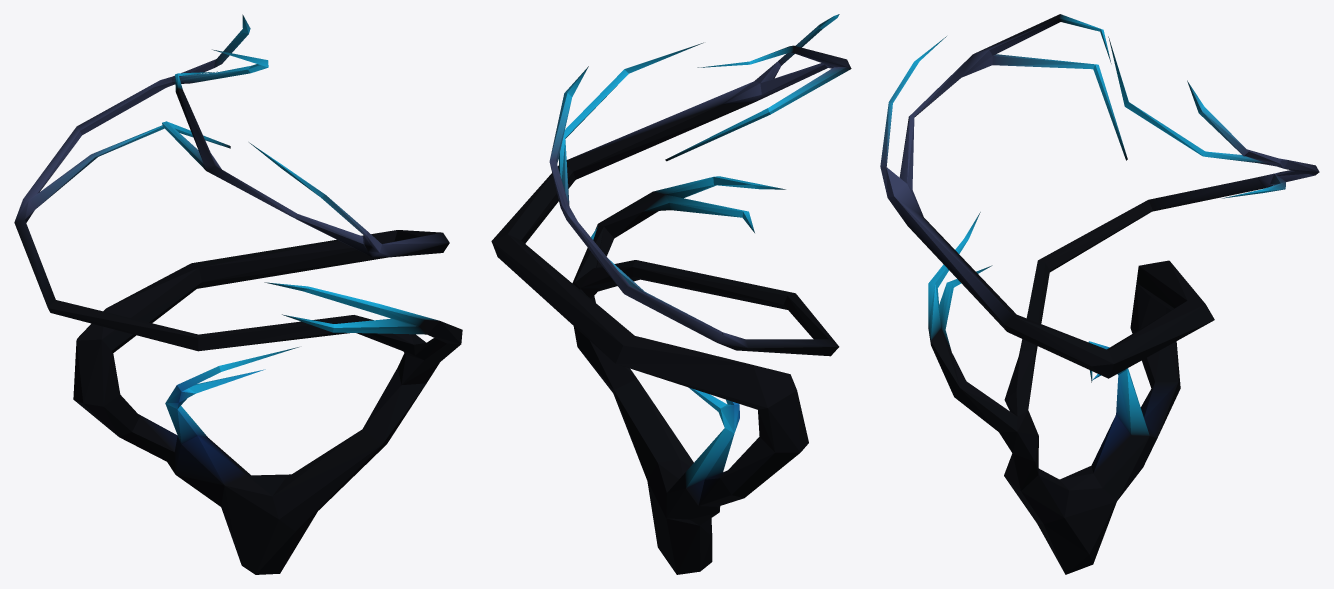
The model's file is Myst_Tree1.fbx.
The picture shows the model from 3 angles, left to right: view 1: azimuth 30°, elevation 25°; view 2: azimuth 150°, elevation 25°; view 3: azimuth 270°, elevation 25°; orthographic projection. The views are drawn at different scales.
Parts seen in each view (by area): view 1: Vert.017; view 2: Vert.017; view 3: Vert.017.
Boxes of the visible parts, box(x1,y1,x2,y2) form: Vert.017: box(14, 14, 462, 574); Vert.017: box(491, 14, 851, 574); Vert.017: box(880, 14, 1319, 574).
Size of the model in its own units: 477 by 689 by 530.
